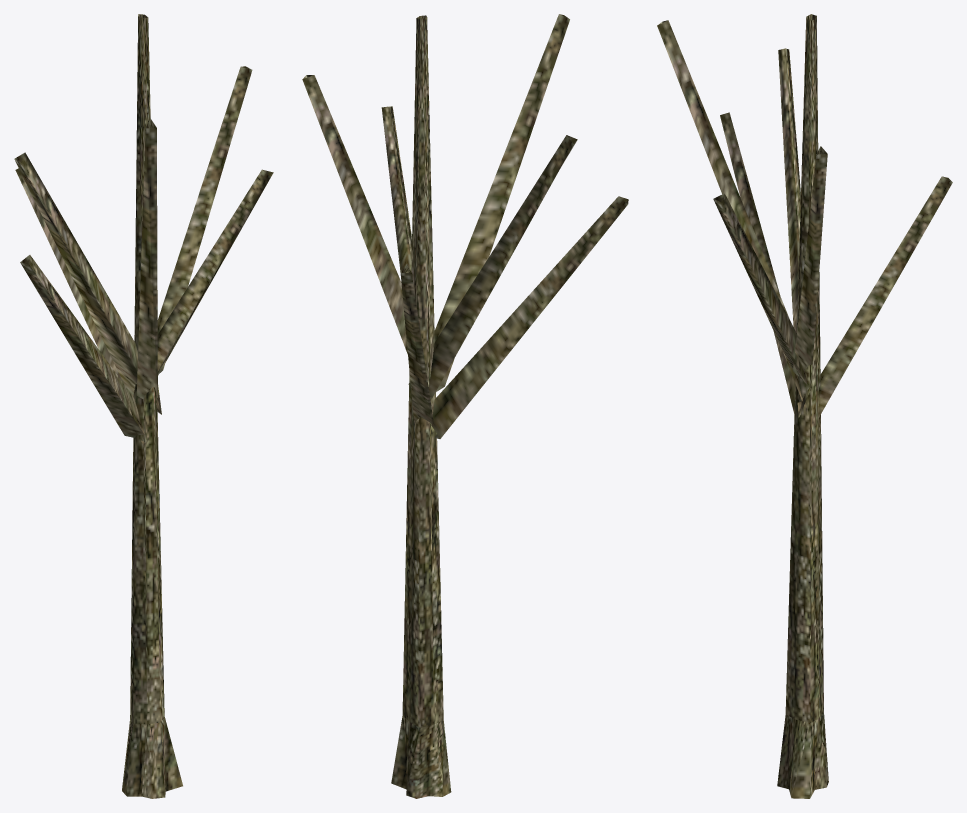
Rendered from tamarix_a.glb.
3 renders of one model, left to right at view 1: azimuth 30°, elevation 25°; view 2: azimuth 150°, elevation 25°; view 3: azimuth 270°, elevation 25°, orthographic.
Bounding box in the file's own units: 4.15 × 11.07 × 3.87.
Materials: 1 (1 with a texture image).
